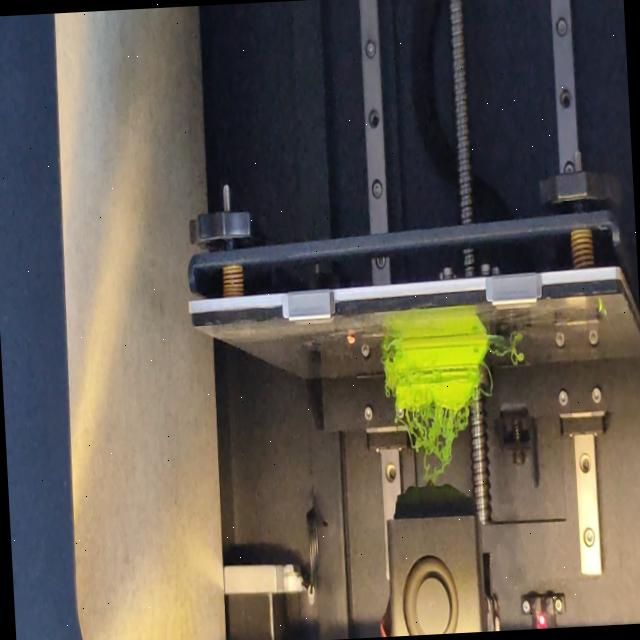spaghetti: (390, 400, 478, 486), (488, 334, 524, 368), (482, 366, 493, 404), (382, 338, 393, 353)
